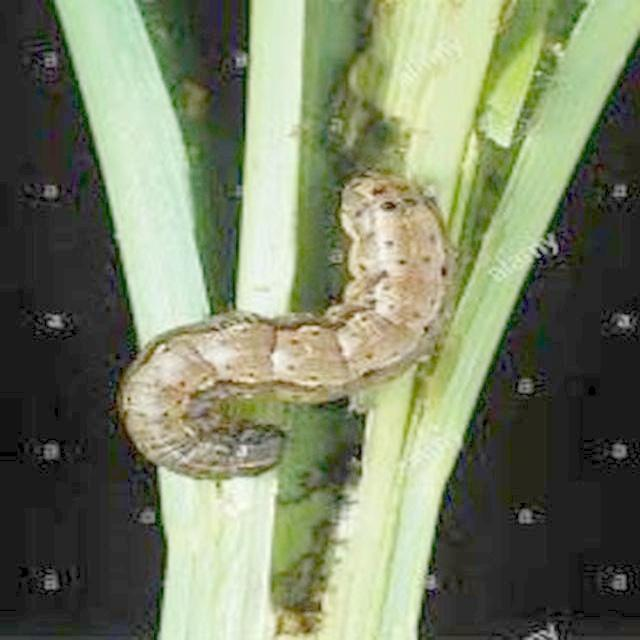Plaga: (114, 165, 454, 484)
